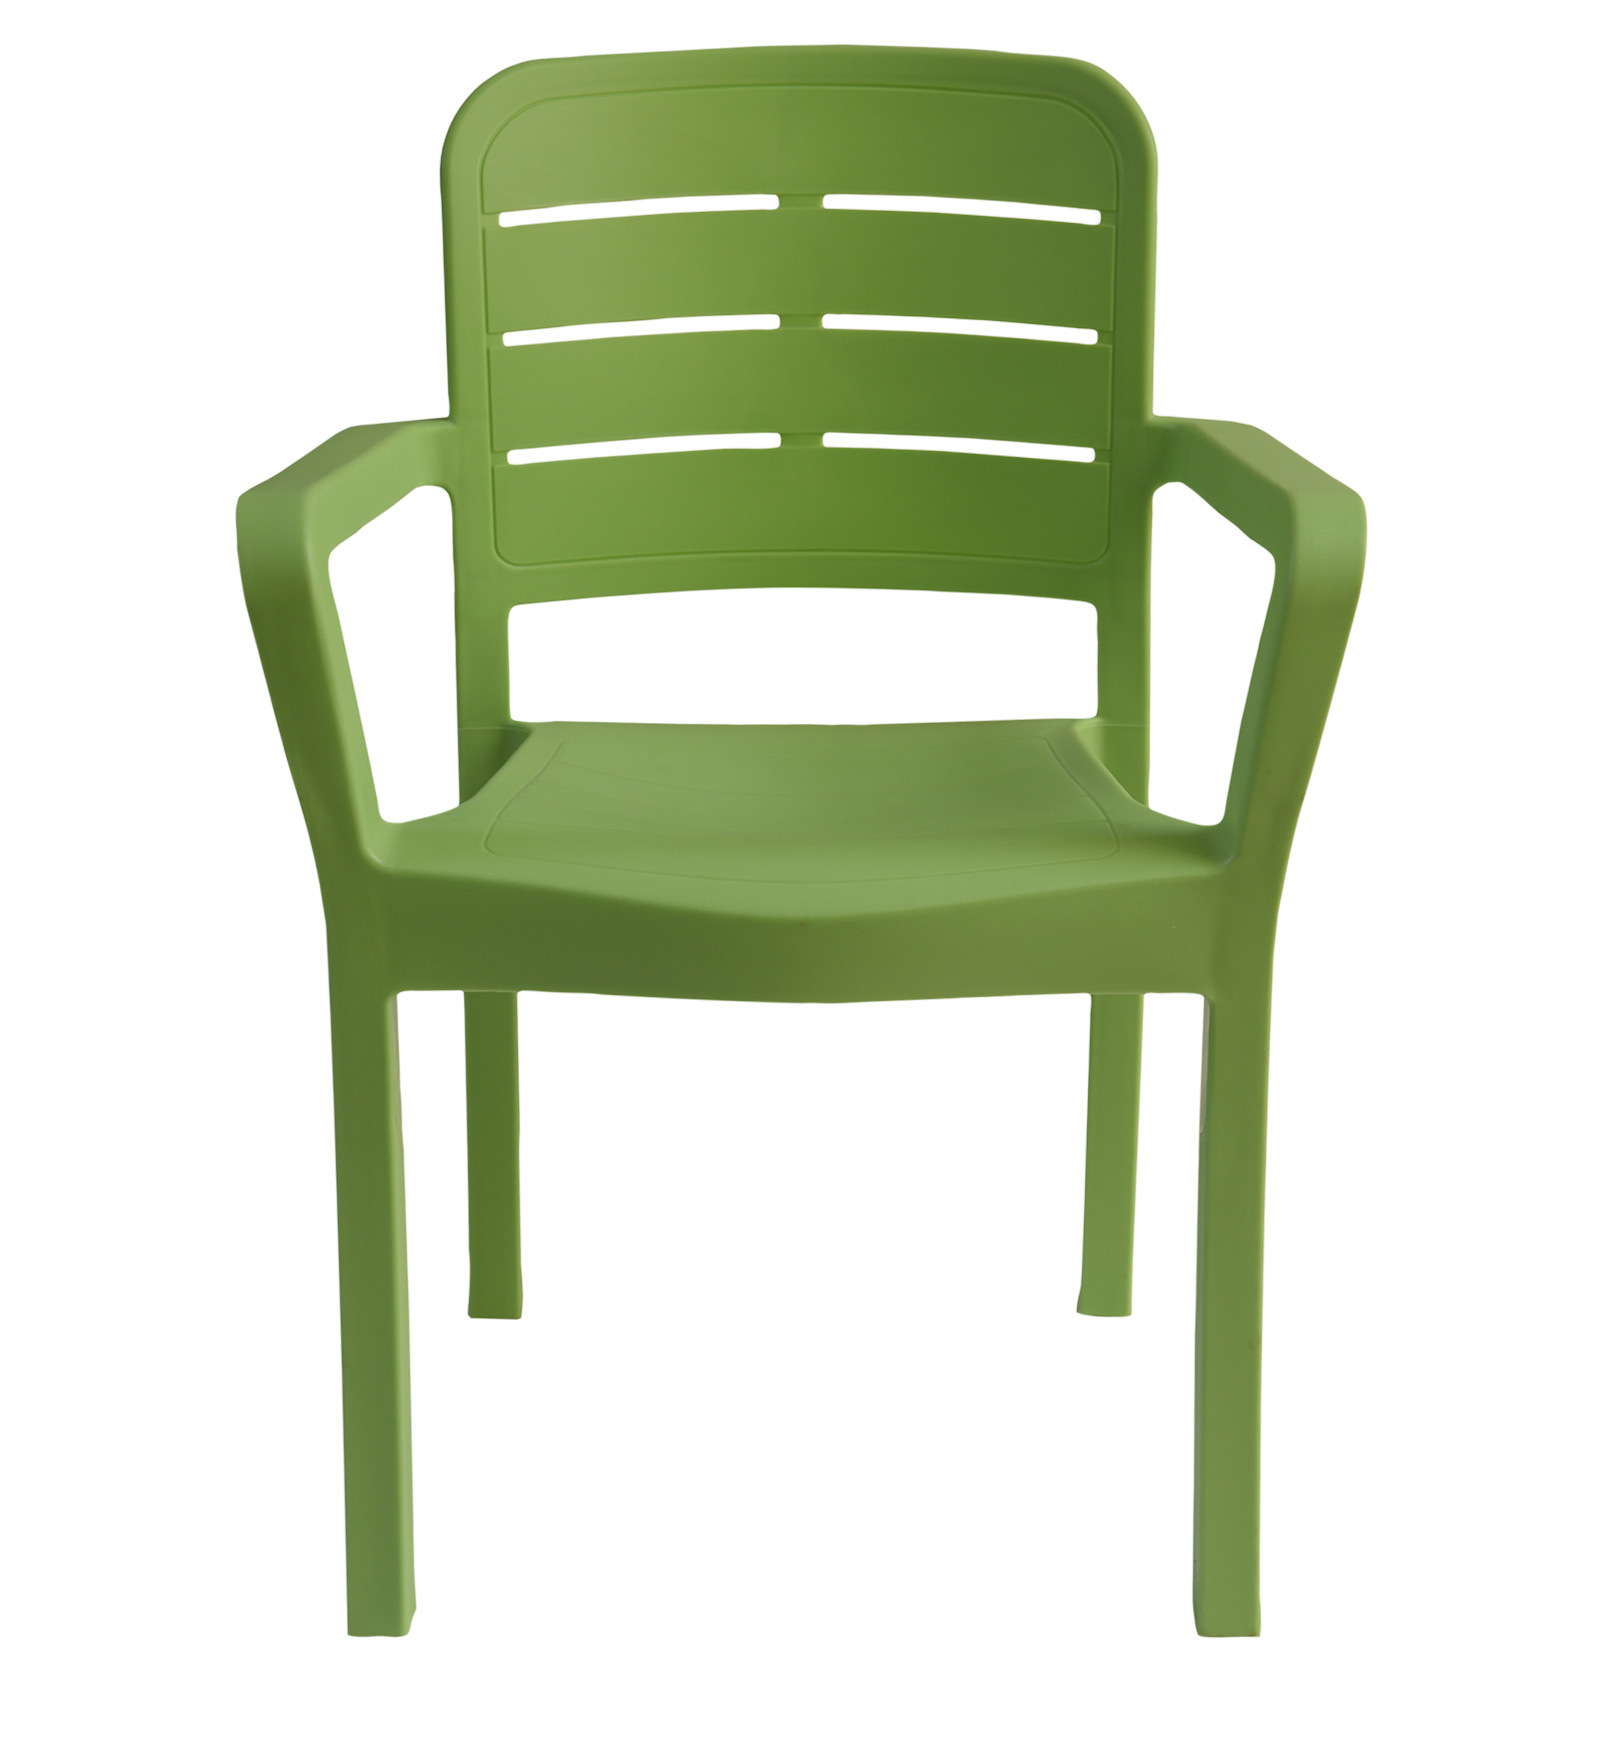Luxury Plastic Chair in Green Colour by Italica Furniture: (231, 21, 1378, 1648)
